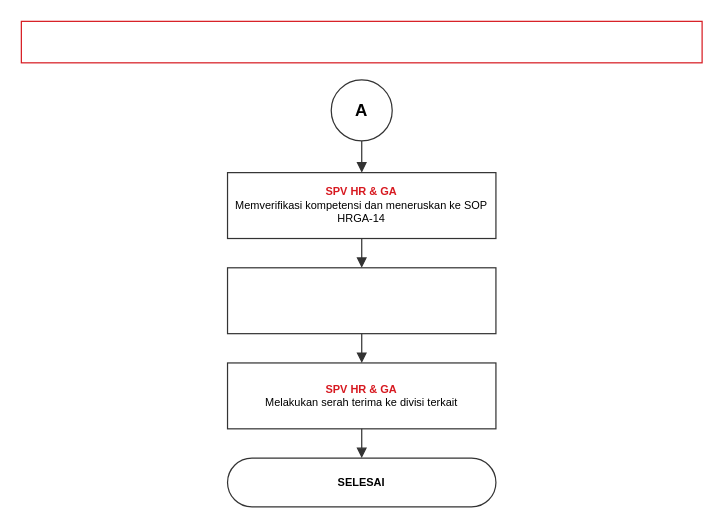
This 723x528 diagram has some shape labels left out. Here are the shapes that lost their labels. From the top down, the centre of each, then its label:
the point at 361,41: SOP-AKSI-HRGA-05 PENYEDIAAN SDM — BAGIAN 2/2
the point at 361,300: SPV HR & GA Menyelesaikan administrasi penerimaan
